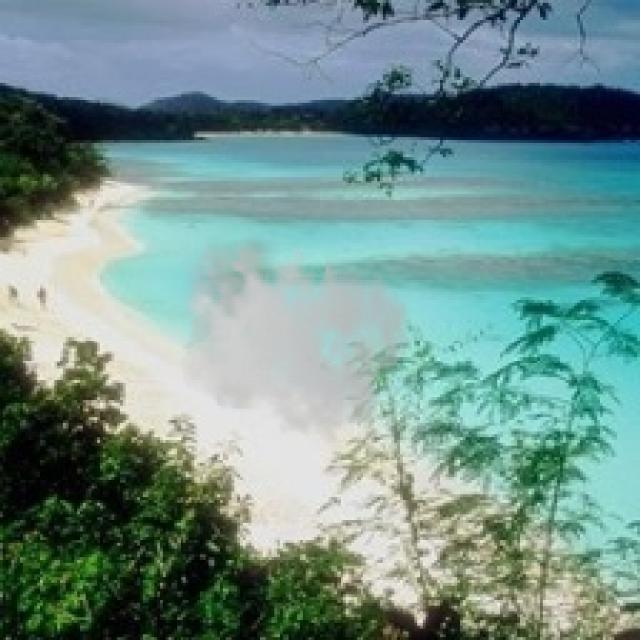smoke: (172, 231, 412, 443)
